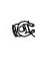Seat: (12, 20, 37, 38)
